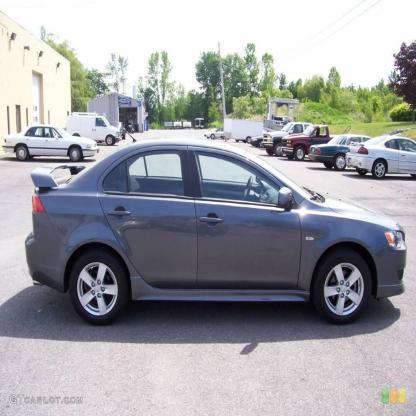Vehicle: (25, 139, 408, 328)
